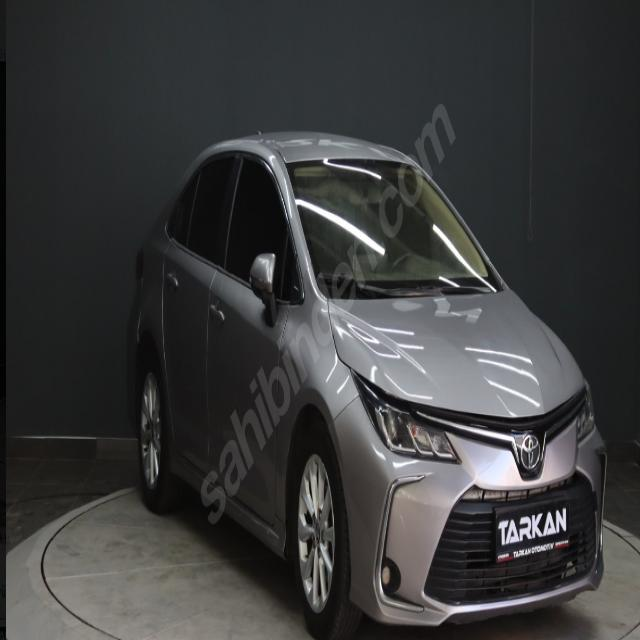toyota: (517, 427, 542, 476)
